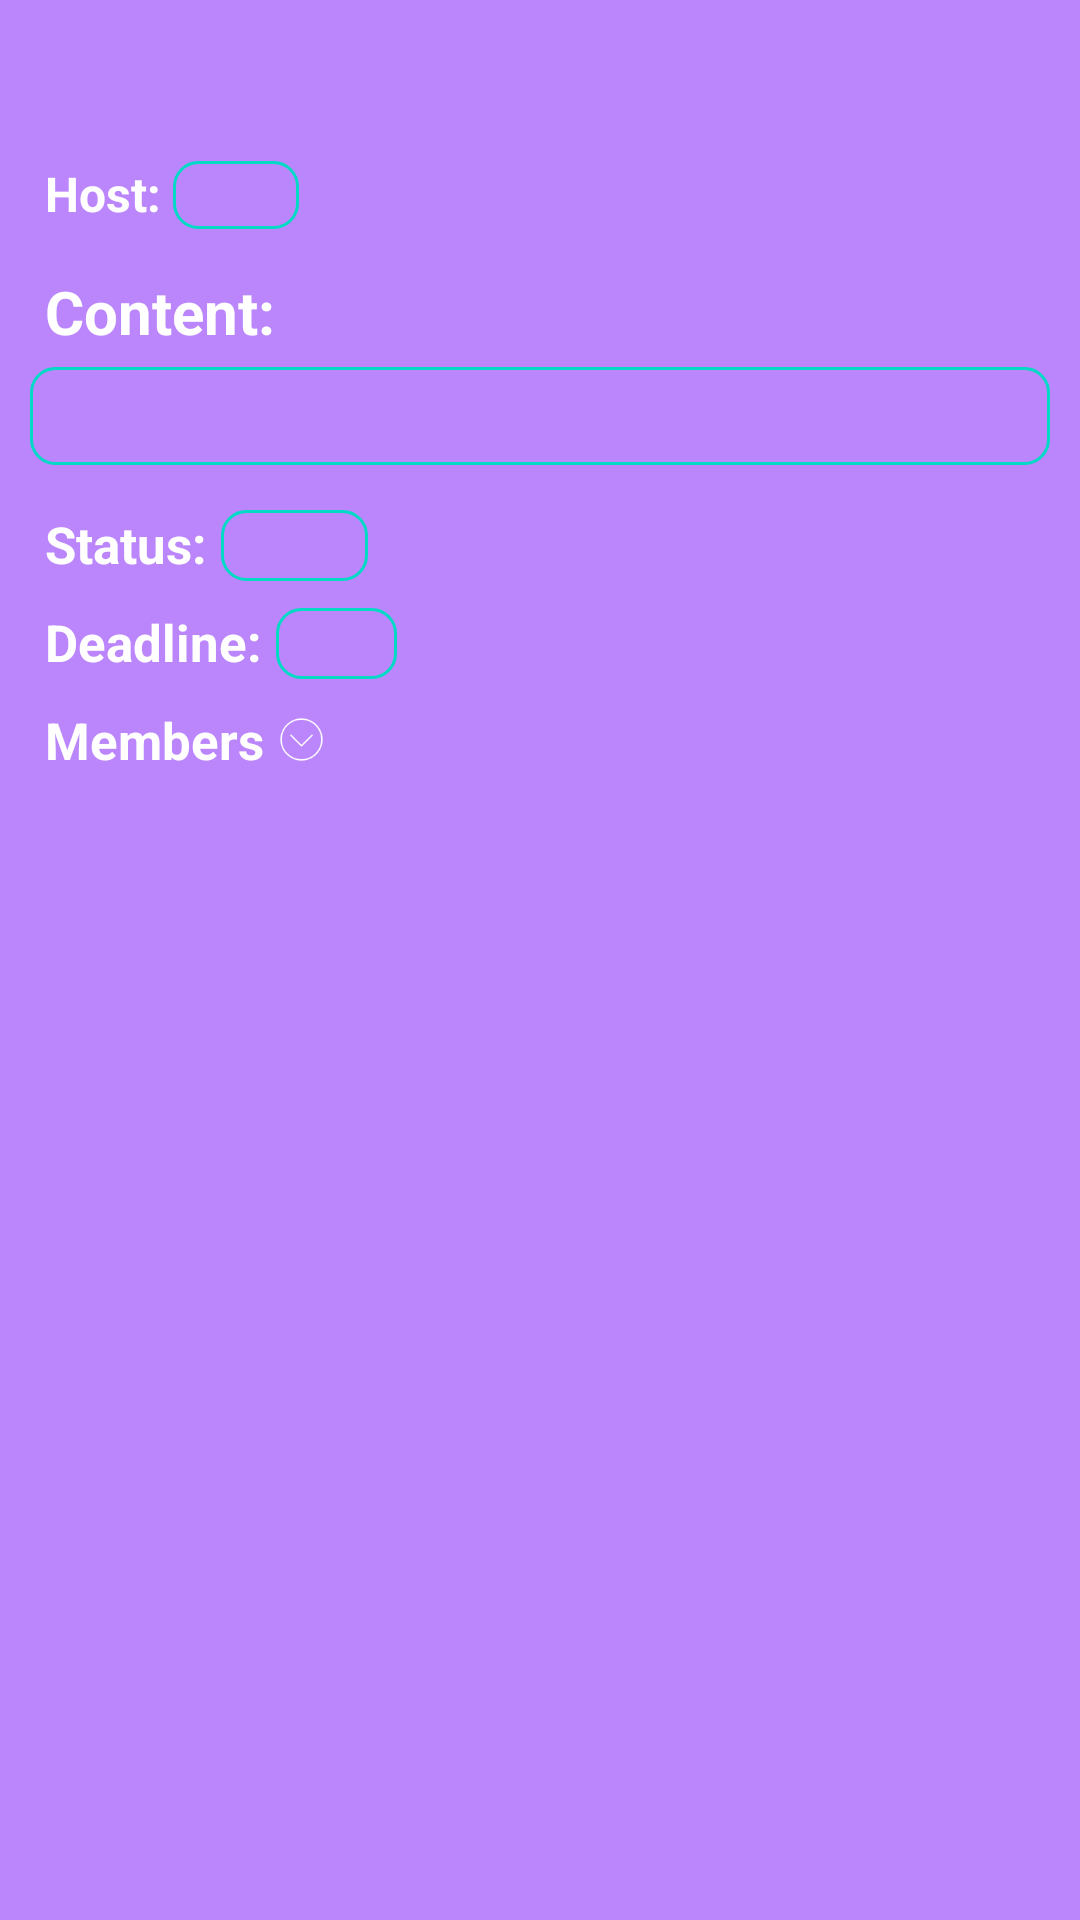

Screen size 1080 × 1920. Icon name, then its center in pixels as (x,y):
down arrow: (301,739)
